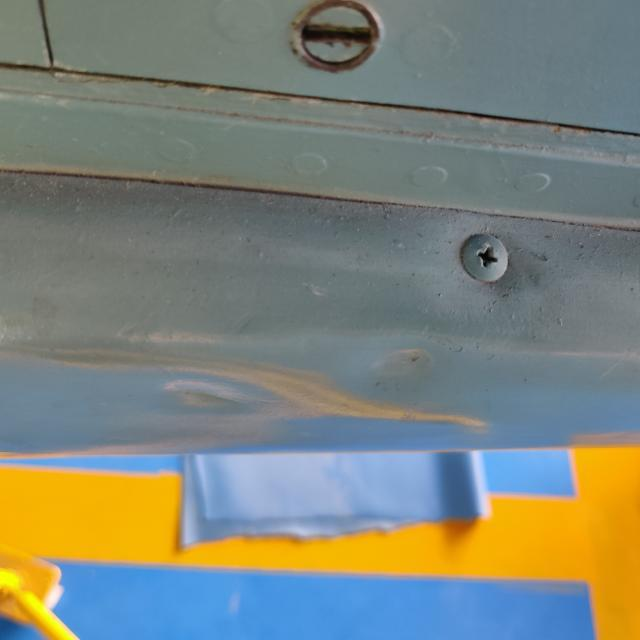dent: (0, 318, 501, 461)
